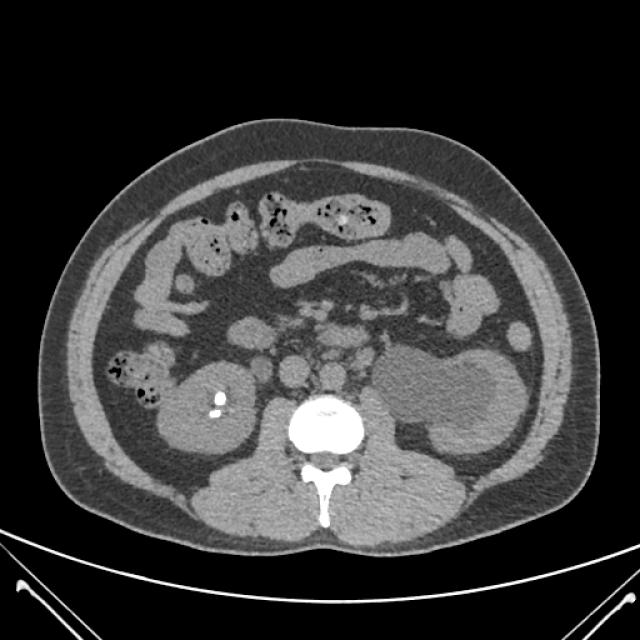kidneystone: (214, 391, 226, 406), (209, 409, 222, 418)
